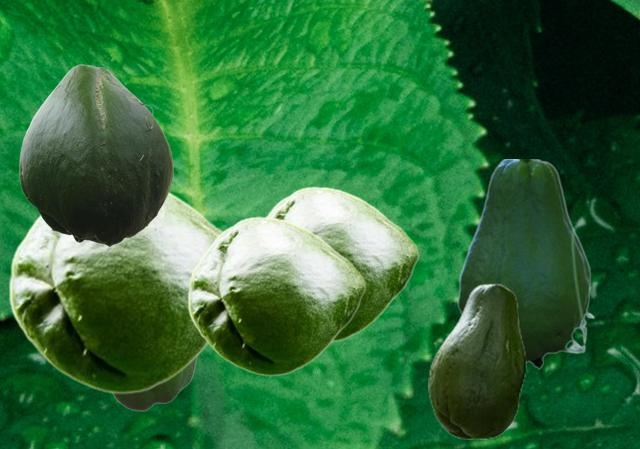sayote: (8, 189, 224, 393), (457, 159, 594, 370), (187, 216, 365, 375), (19, 64, 172, 246), (265, 186, 418, 341), (428, 283, 525, 438), (112, 359, 196, 410)
